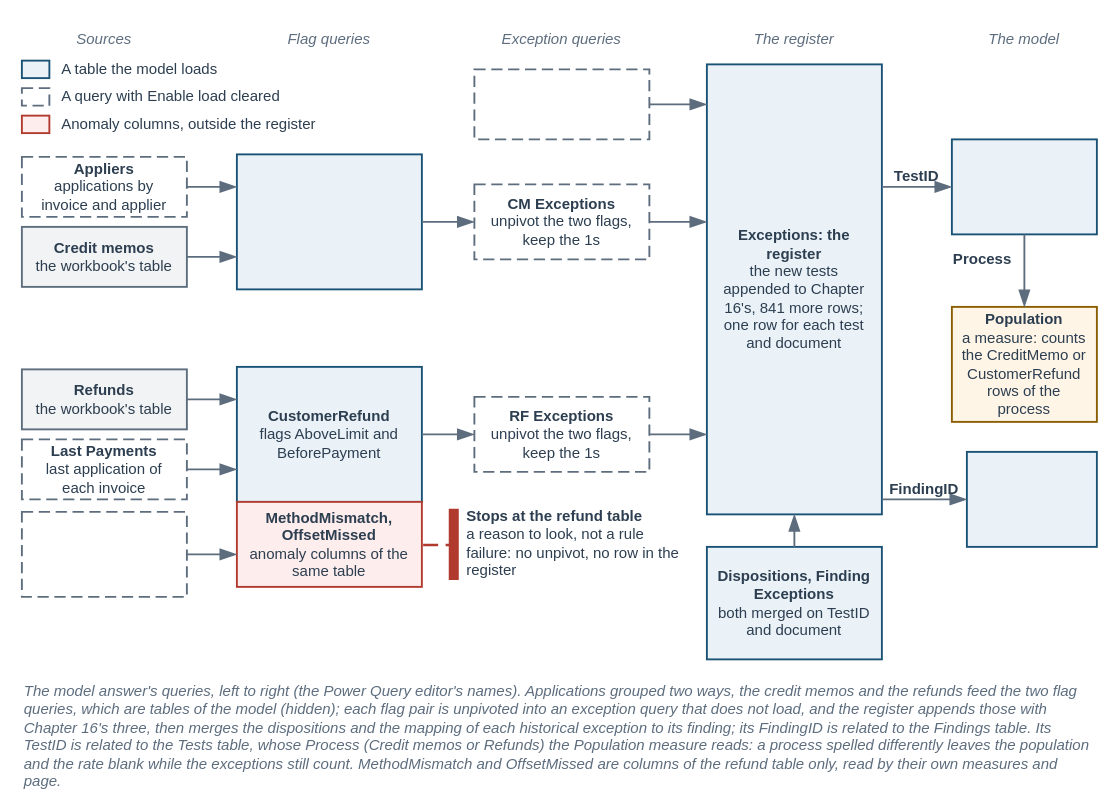
Some shapes in this 1120 by 811 pixel diagram are drawn without their labels. Each missing label, with the centre of its shape:
CreditMemo flags AboveLimit and CashAndCredit: the point at 328,221
Findings two rows: owner, dates, closure fields: the point at 1031,498
Invoice Methods, Past Due at Refund: the point at 103,553
JE, PO and Payroll Exceptions Chapter 16's queries: the point at 561,104
Tests four new rows: TestID, Test, Process: the point at 1023,186
